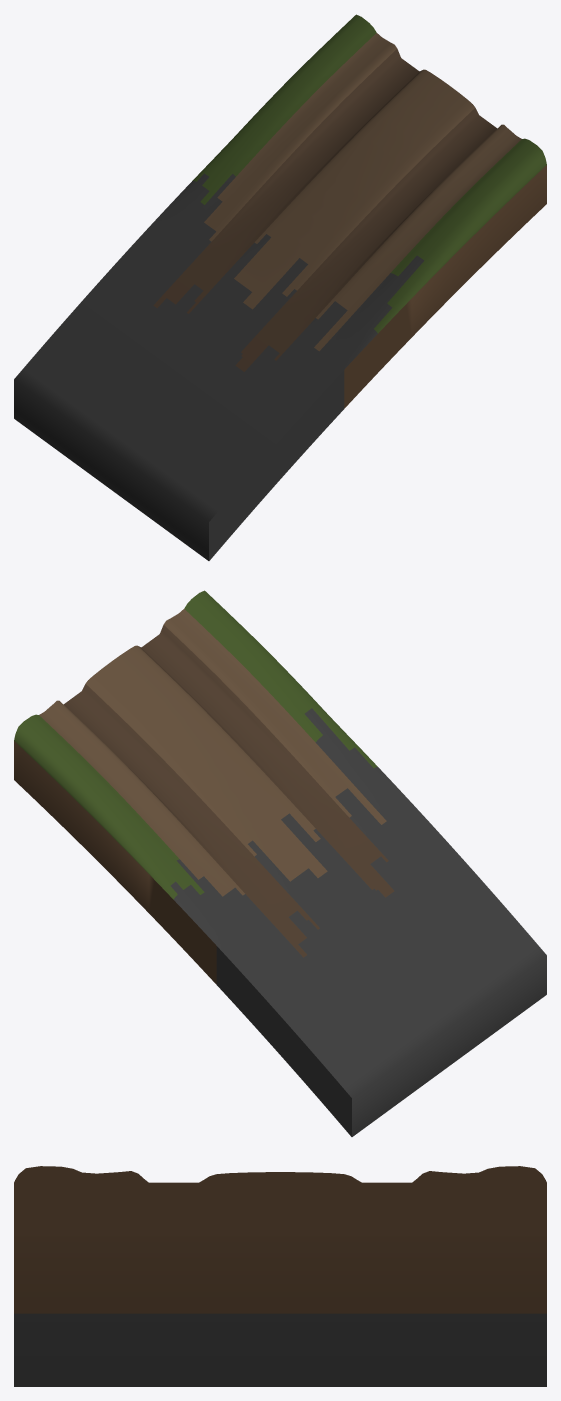
The picture shows the model from 3 angles, top to bottom: view 1: azimuth 30°, elevation 25°; view 2: azimuth 150°, elevation 25°; view 3: azimuth 270°, elevation 25°; orthographic projection. The views are drawn at different scales.
Parts seen in each view (by area): view 1: e34u; view 2: e34u; view 3: e34u.
Part boxes in pixels (x1=…): e34u: x1=14, y1=14, x2=546, y2=560; e34u: x1=14, y1=590, x2=546, y2=1136; e34u: x1=14, y1=1166, x2=546, y2=1386.
Size of the model in its own units: 9 by 8.31 by 9.
